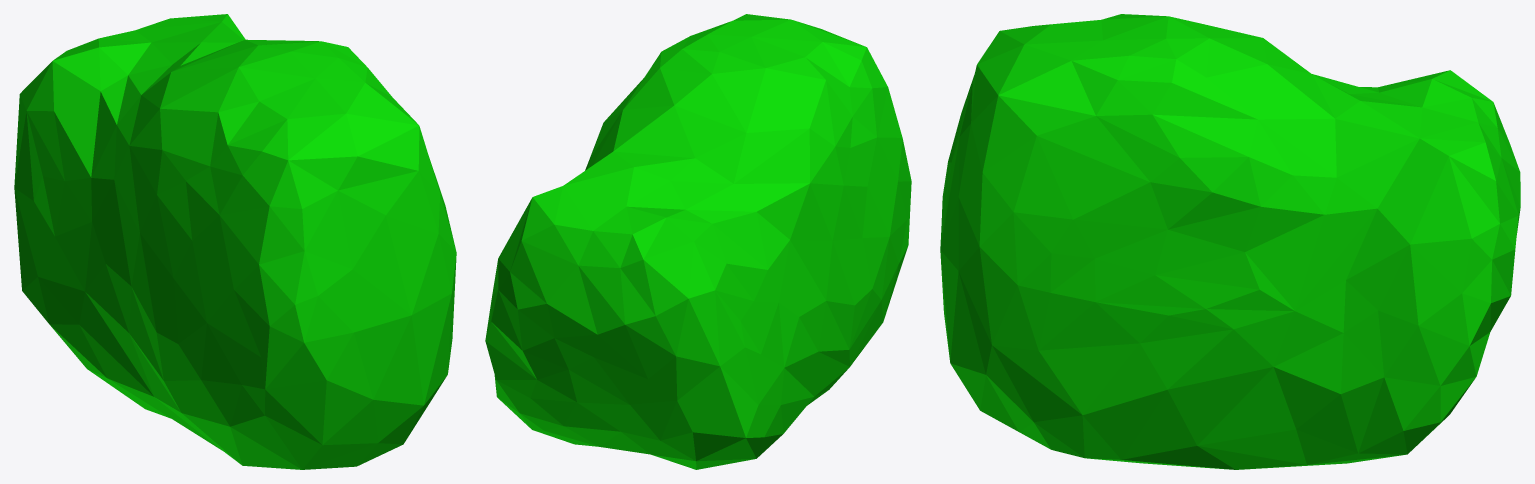
The model's file is 132-MDM-mediodorsal thalamic nucleus, medial part-('0.0353', '1.0000', '0.0000').obj.
3 renders of one model, left to right at view 1: azimuth 30°, elevation 25°; view 2: azimuth 150°, elevation 25°; view 3: azimuth 270°, elevation 25°, orthographic. The views are drawn at different scales.
Bounding box in the file's own units: 24.35 × 34.13 × 43.35.
